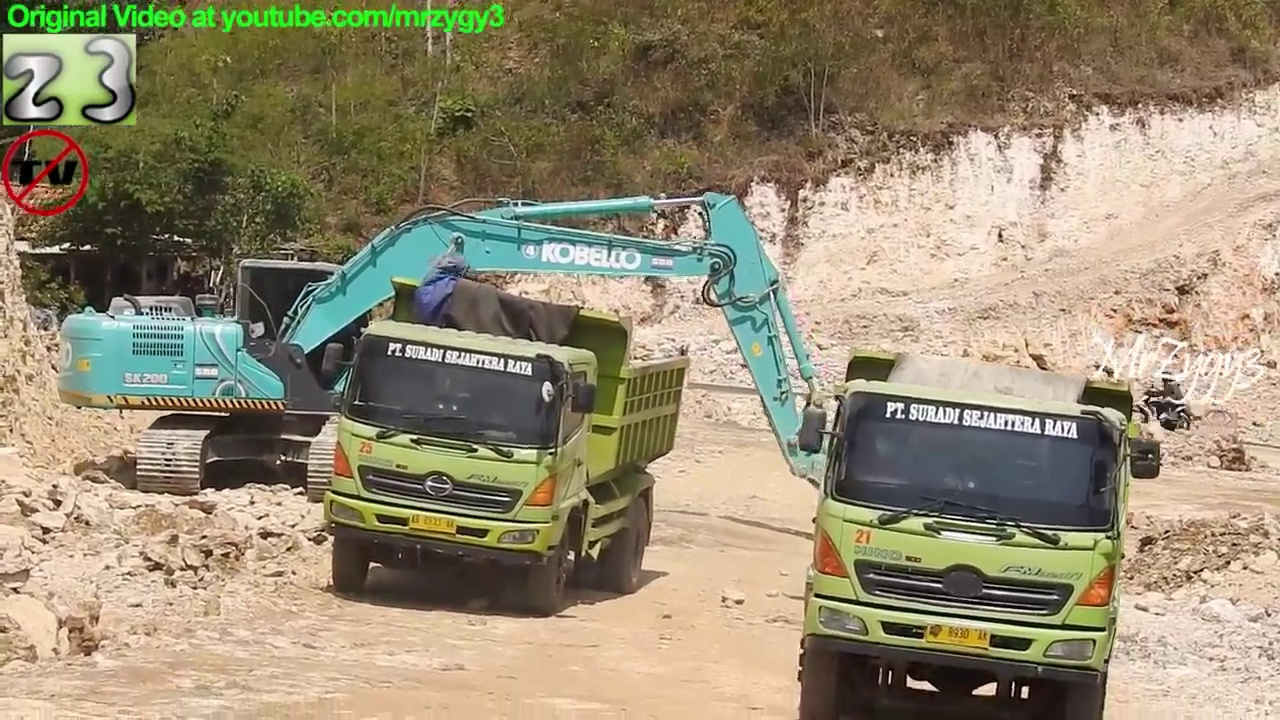excavator: (47, 179, 948, 557)
truck: (789, 344, 1171, 720), (315, 269, 695, 621)
